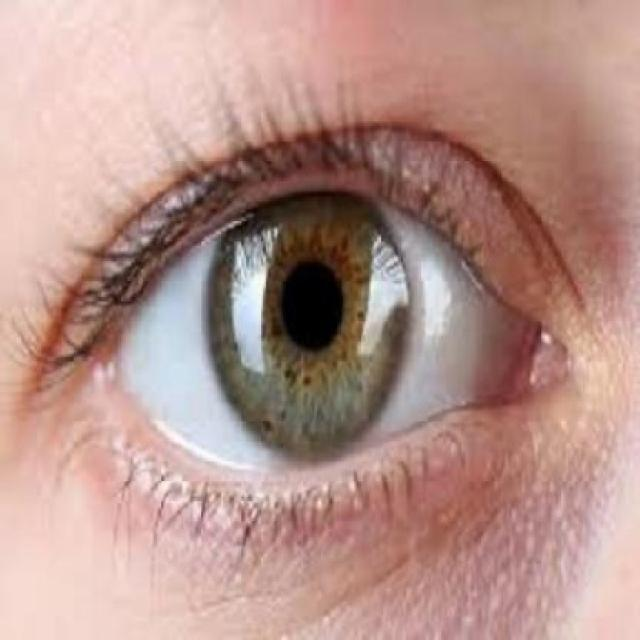awake: (71, 126, 569, 580)
